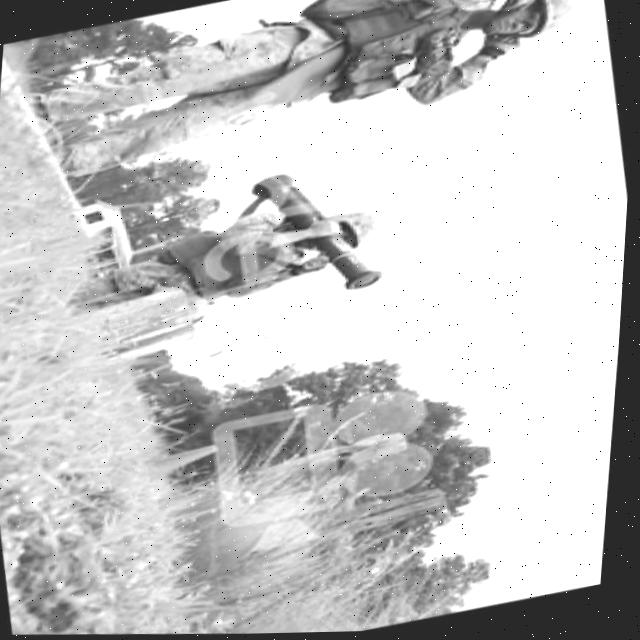rocket: (239, 148, 396, 312)
